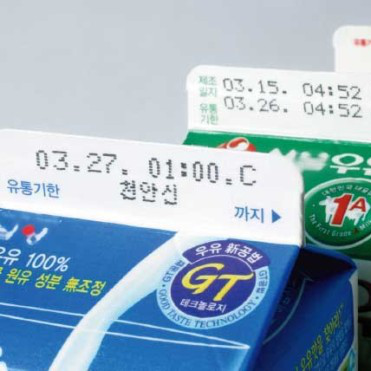milk: (4, 127, 358, 371), (182, 65, 371, 262)
